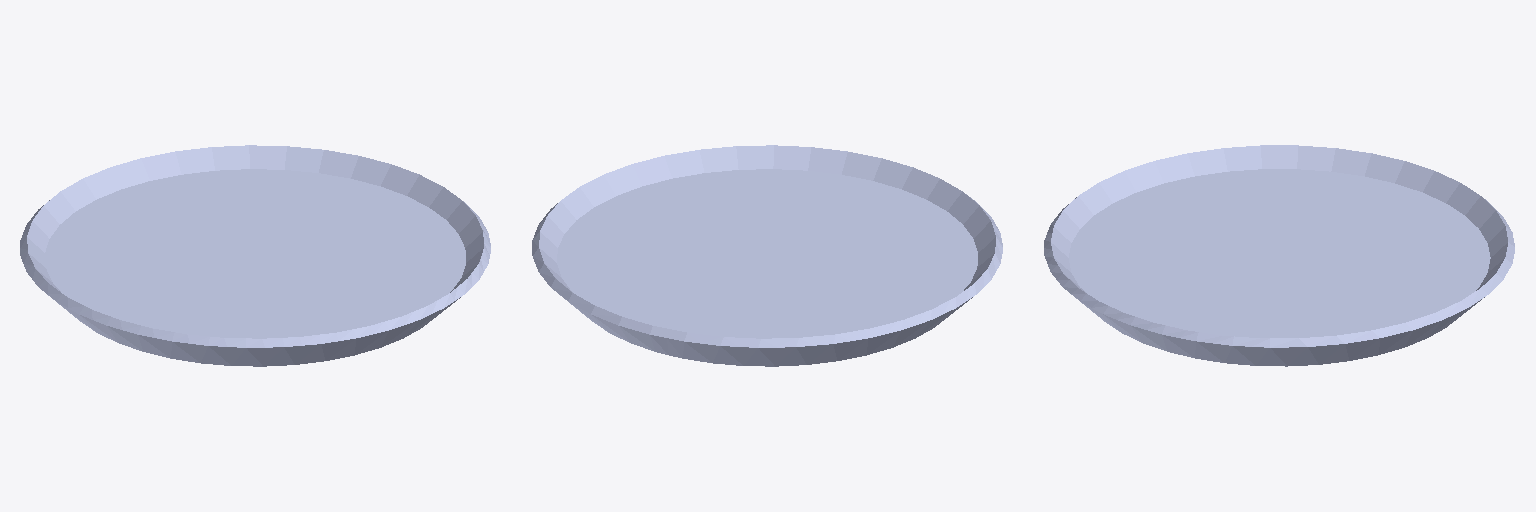
robot.urdf — plate:
<robot
  name="plate">
  <link
    name="plate">
    <inertial>
      <origin
        xyz="1.6137E-34 -1.85989588547312E-18 0.0080598"
        rpy="0 0 0" />
      <mass
        value="0.4" />
      <inertia
        ixx="0.00171701092859306"
        ixy="7.8324622016683E-36"
        ixz="-5.04676306316426E-37"
        iyy="0.00171701092859306"
        iyz="1.26377995886907E-19"
        izz="0.00340937986763055" />
    </inertial>
    <visual>
      <origin
        xyz="0 0 0"
        rpy="1.5707963267949 0 0" />
      <geometry>
        <mesh
          filename="package://sawyer_gazebo_env/models/plate/plate.STL"/>
      </geometry>
      <material
        name="">
        <color
          rgba="0.79216 0.81961 0.93333 1" />
      </material>
    </visual>
    <collision>
      <origin
        xyz="0 0 0"
        rpy="1.5707963267949 0 0" />
      <geometry>
        <mesh
          filename="package://sawyer_gazebo_env/models/plate/plate.STL" />
      </geometry>
    </collision>
    </link>
    <gazebo reference="plate">
      <material>Gazebo/Grey</material>
      <mu1>1000</mu1>
      <mu2>1000</mu2>
  </gazebo>
</robot>

--- Facts derived from the render (not from the file) ---
Views: 3 orthographic renders of the robot side by side, from view 1: azimuth 30°, elevation 25°; view 2: azimuth 150°, elevation 25°; view 3: azimuth 270°, elevation 25°.
Model plate with 1 links and 0 joints (none), rooted at plate, posed every joint at zero.
Visible links, largest first — view 1: plate; view 2: plate; view 3: plate.
Link boxes in pixels (x1,y1,x2,y2): plate: [20, 145, 490, 366]; plate: [532, 145, 1002, 366]; plate: [1044, 145, 1514, 366].
Bounding box of the posed robot: 0.239 × 0.2388 × 0.0232 m (x, y, z).
1 mesh visuals loaded from 1 distinct referenced files (1 binary STL).